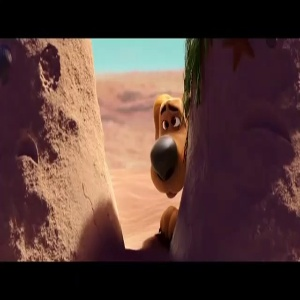Scooby: (147, 86, 192, 200)
